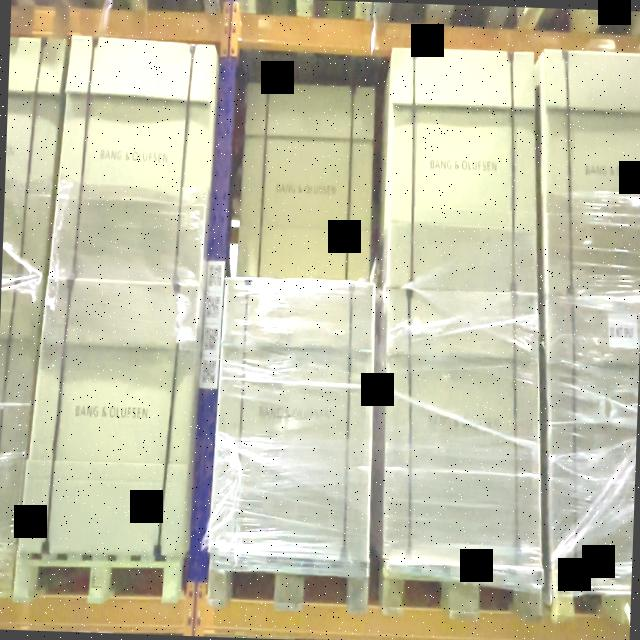box: (216, 279, 374, 557), (39, 280, 192, 556), (382, 288, 537, 560), (385, 48, 533, 290), (65, 41, 206, 284), (242, 84, 374, 280)
